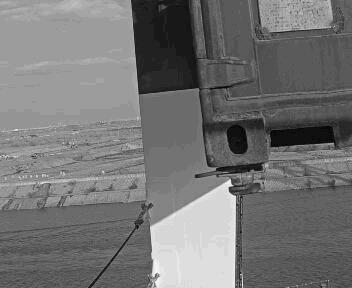twist_lock_1: (208, 159, 270, 202)
